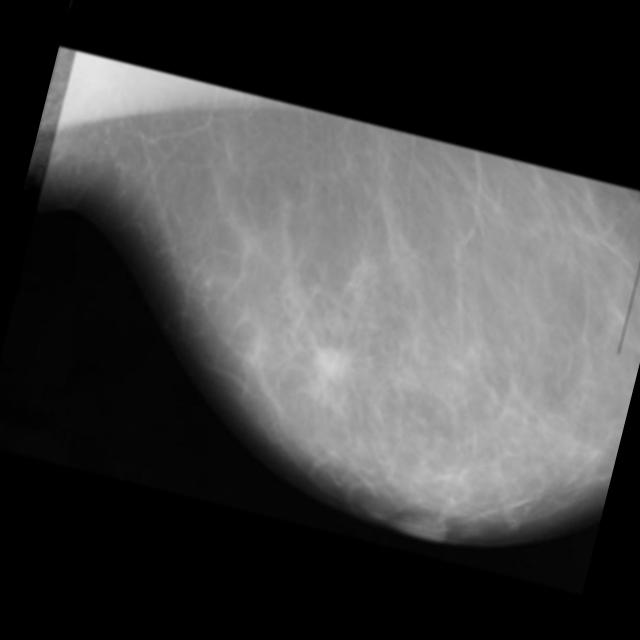ARCH: (258, 292, 401, 435)
